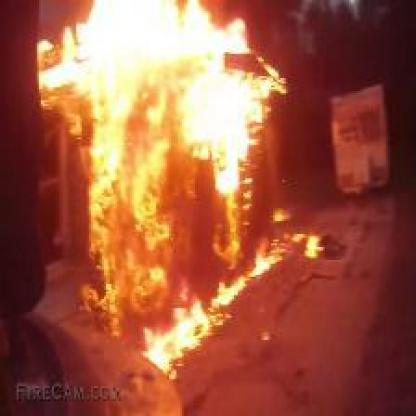fire: (0, 0, 353, 373)
